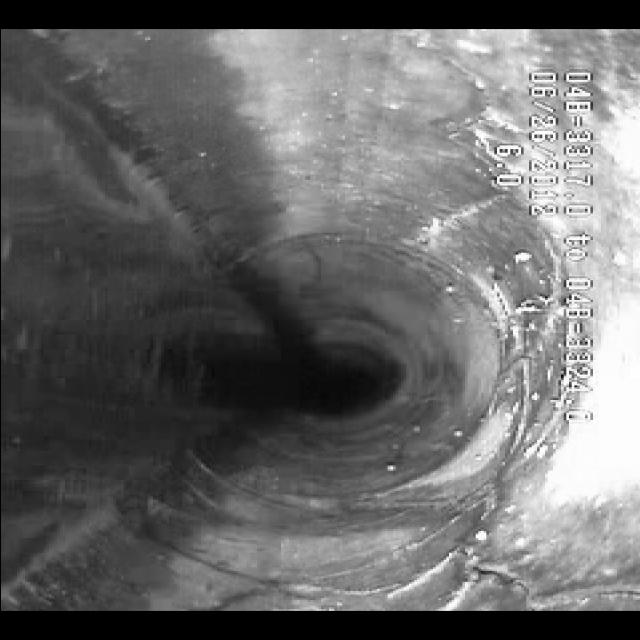Fracture: (385, 496, 606, 604)
